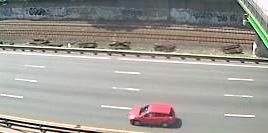car: (125, 100, 180, 129)
